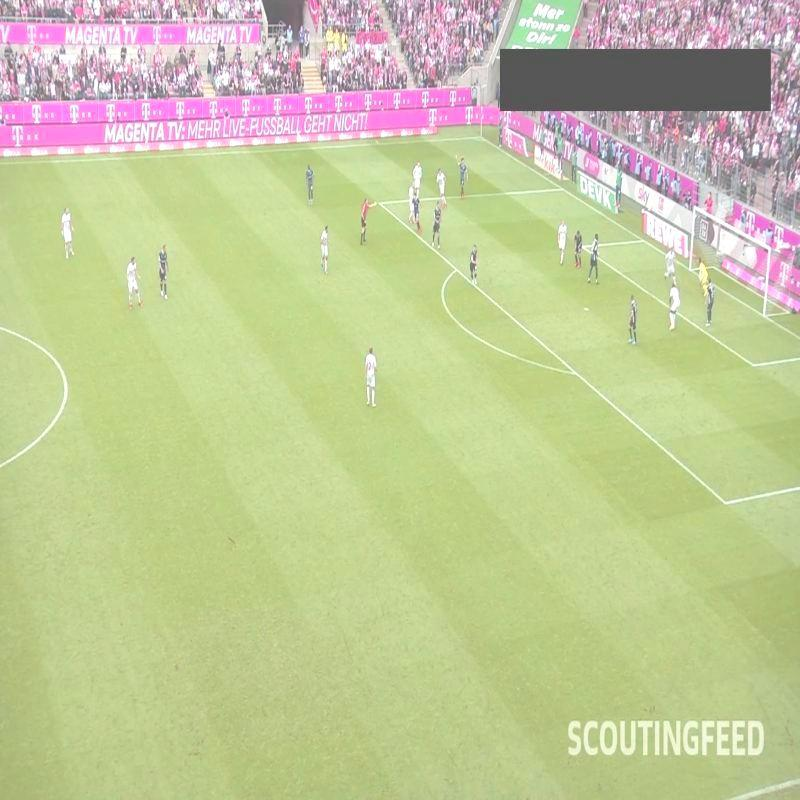1: (473, 130, 488, 144)
10: (449, 262, 463, 276)
11: (566, 364, 581, 378)
12: (719, 494, 733, 508)
2: (554, 181, 568, 195)
3: (636, 232, 650, 246)
7: (578, 239, 592, 253)
8: (747, 356, 761, 370)
9: (372, 195, 386, 209)
c: (58, 372, 72, 386)
